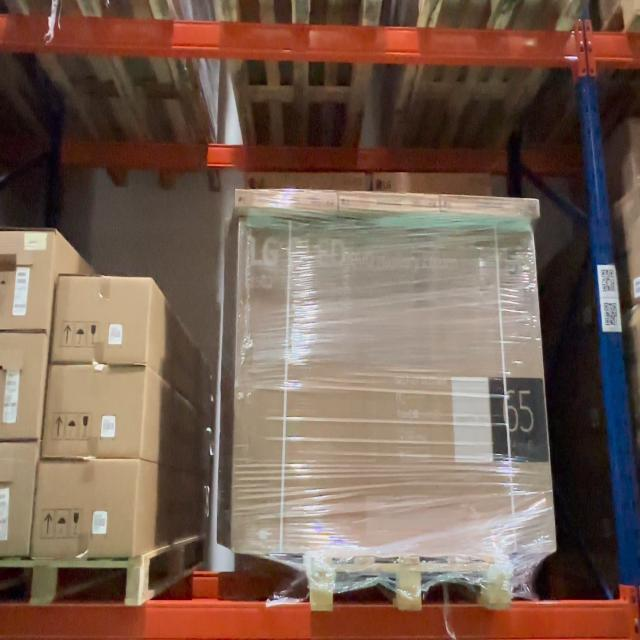box: (240, 227, 534, 550), (51, 366, 139, 458), (41, 467, 130, 548), (58, 282, 143, 355), (442, 196, 540, 219), (341, 193, 436, 215), (237, 191, 337, 210)
